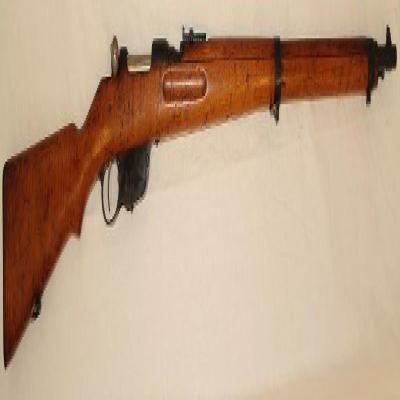weapon: (2, 5, 400, 370)
